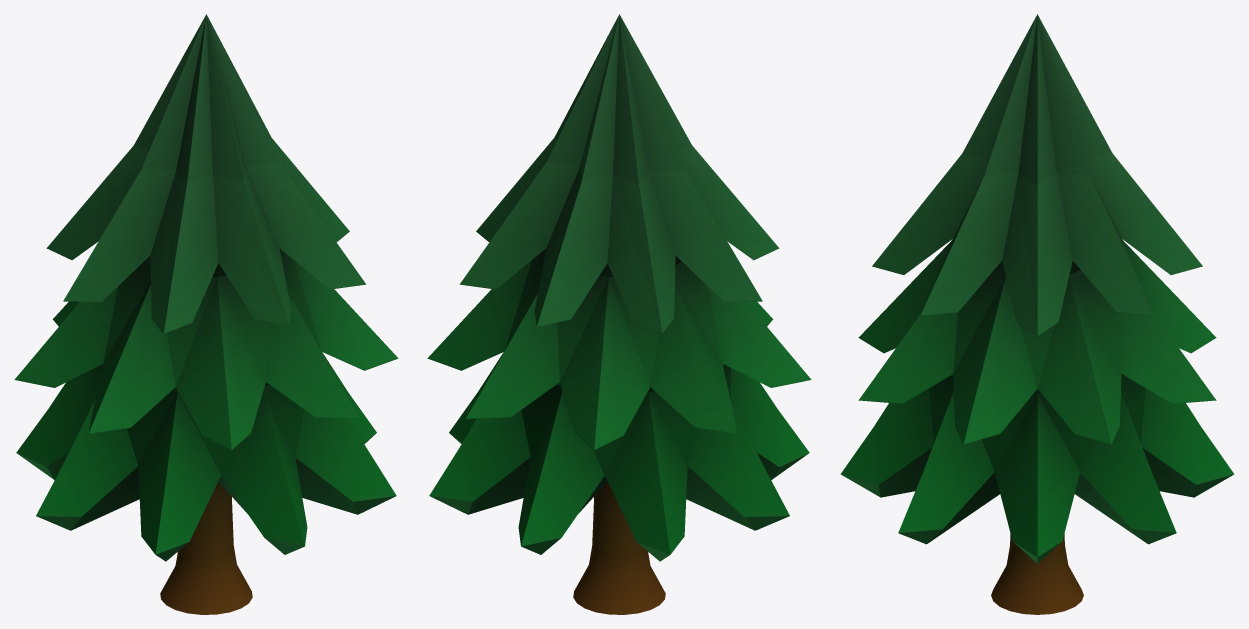
The model's file is tree_03.fbx.
The picture shows the model from 3 angles, left to right: view 1: azimuth 30°, elevation 25°; view 2: azimuth 150°, elevation 25°; view 3: azimuth 270°, elevation 25°; orthographic projection.
Parts seen in each view (by area): view 1: polySurface1; view 2: polySurface1; view 3: polySurface1.
Boxes of the visible parts, x1=… form: polySurface1: x1=14, y1=14, x2=398, y2=614; polySurface1: x1=427, y1=14, x2=811, y2=614; polySurface1: x1=840, y1=14, x2=1234, y2=614.
Size of the model in its own units: 21.28 by 34.65 by 21.28.
